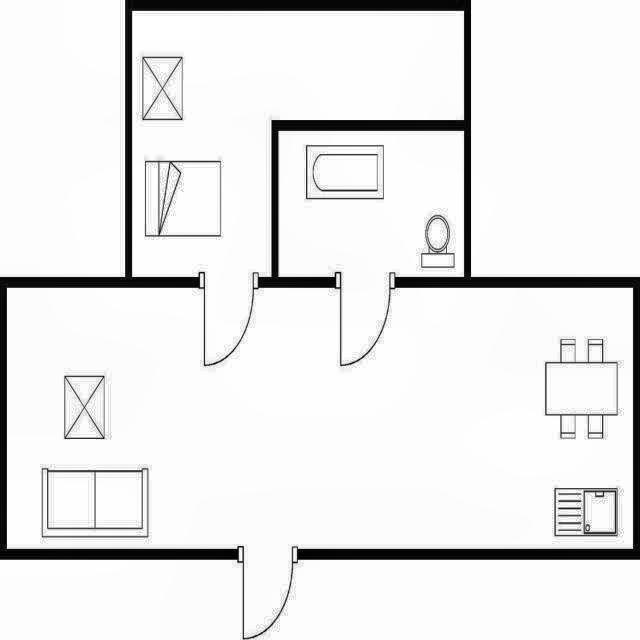room: (6, 290, 633, 548), (131, 9, 464, 276), (279, 131, 464, 276)
